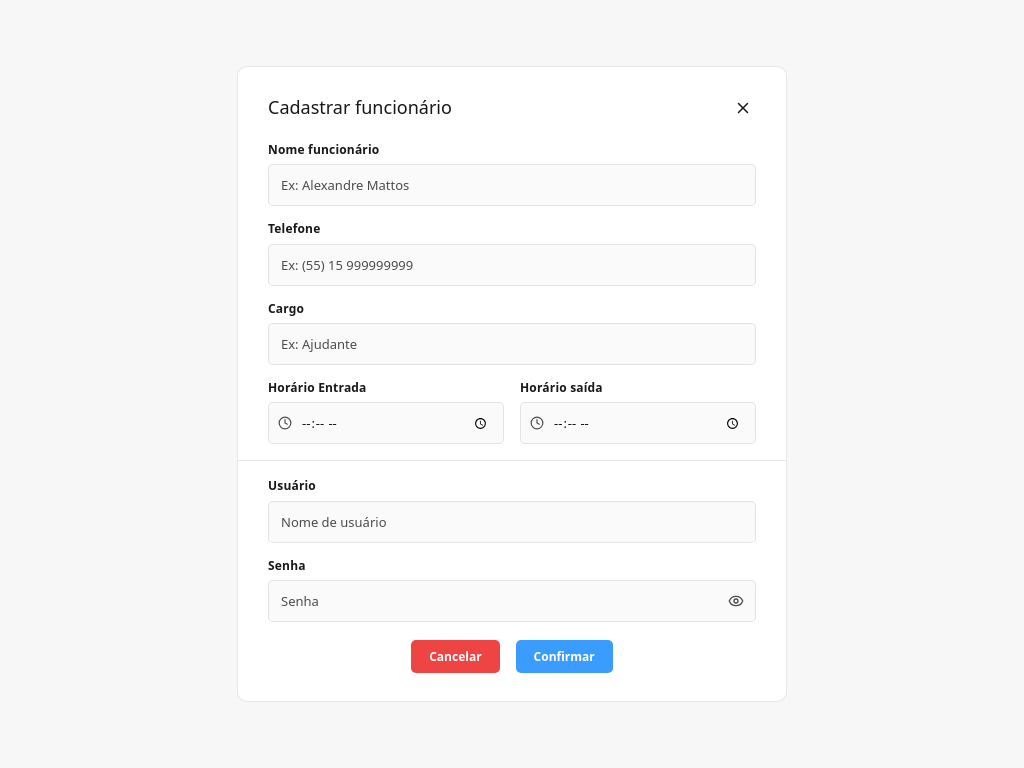
Test: EmployeeFormModal (create) › blocks the save when the usuario belongs to another employee, ignoring case
Type "Maria Lima" into the field labelled "Nome funcionário" at (512, 185), box [268,164,756,206]
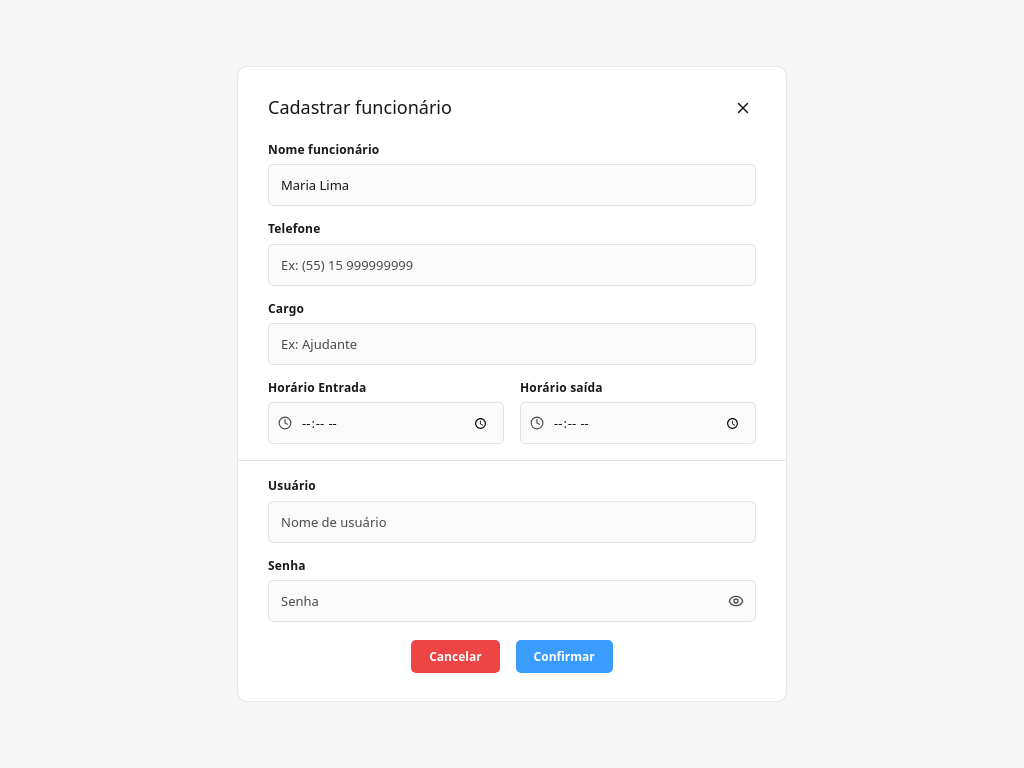
Type "Operadora" into the field labelled "Cargo" at (512, 344), box [268,323,756,365]
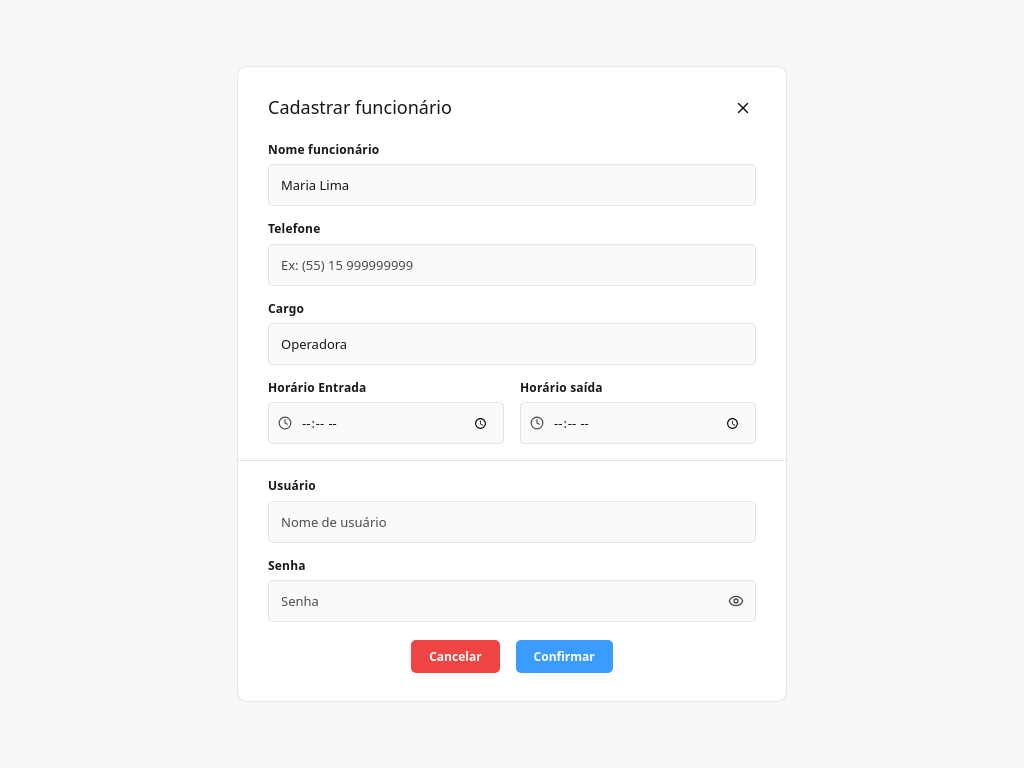
Type "maria" into the field labelled "Usuário" at (512, 522), box [268,501,756,543]
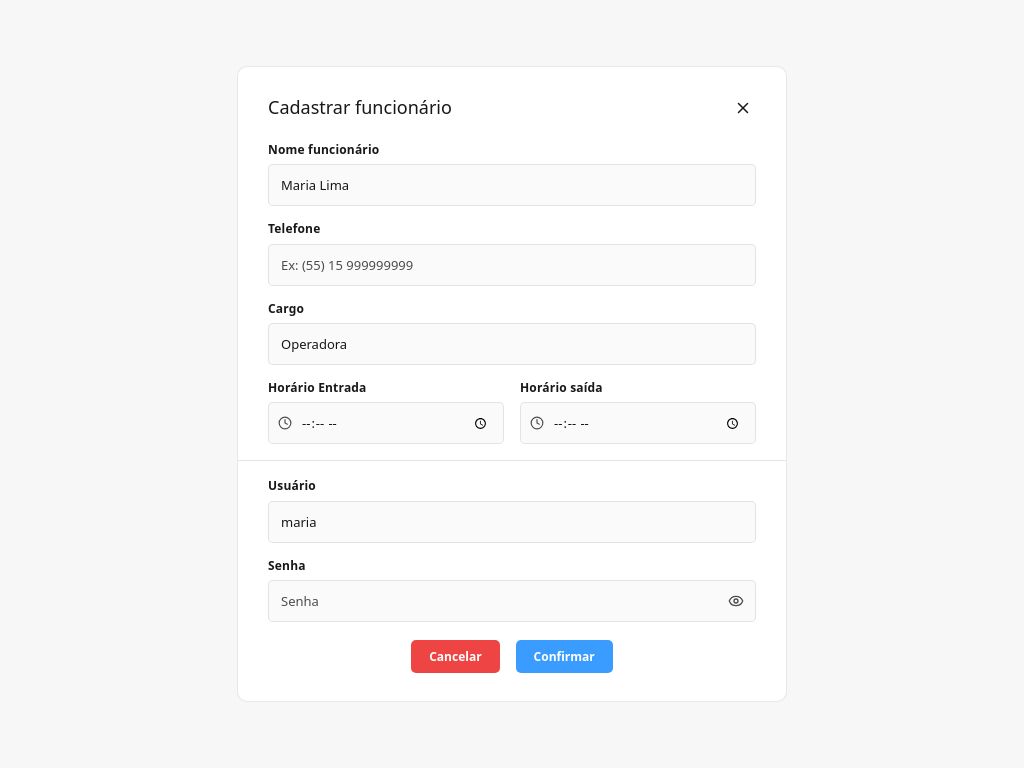
Type "Maria123" into the password field labelled "Senha" at (512, 601), box [268,580,756,622]
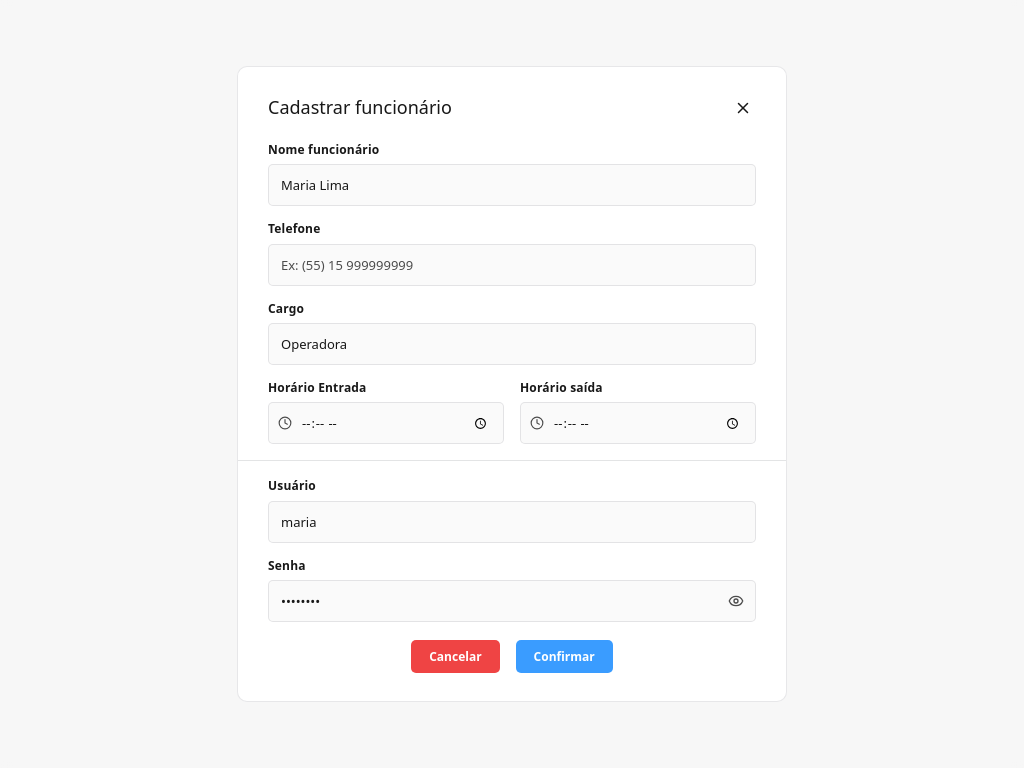
Replace the text in the field labelled "Usuário" with "ALEXANDREMATTOS" at (512, 522), box [268,501,756,543]
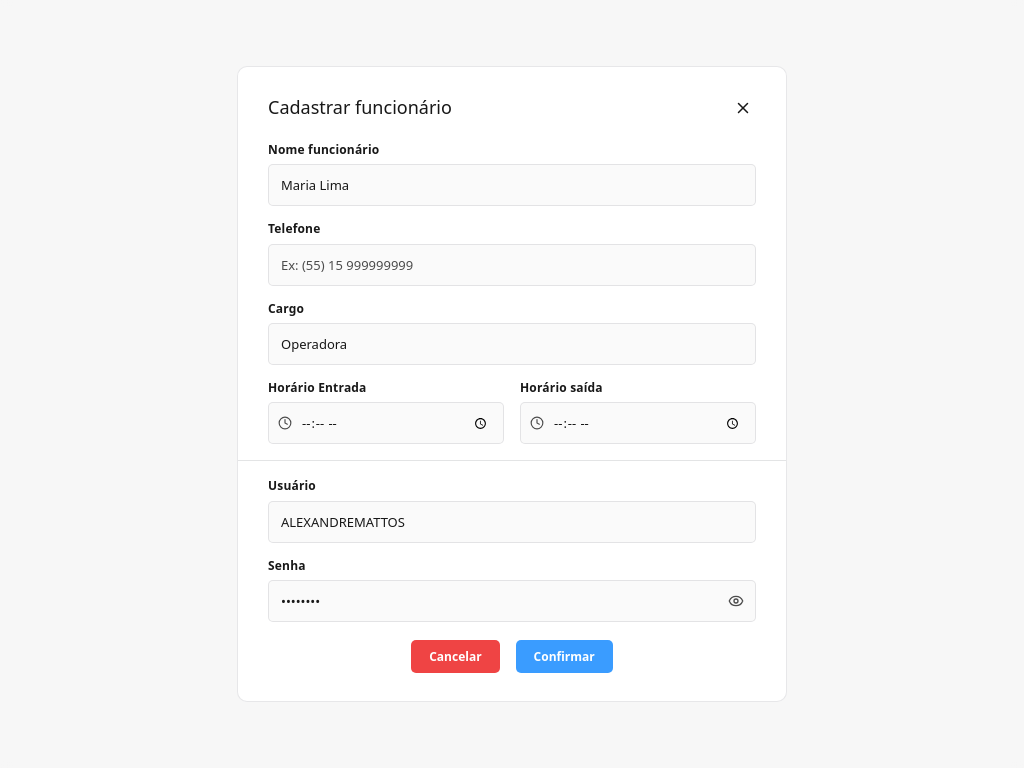
Click the button "Confirmar" at (564, 657), box [516,640,613,673]
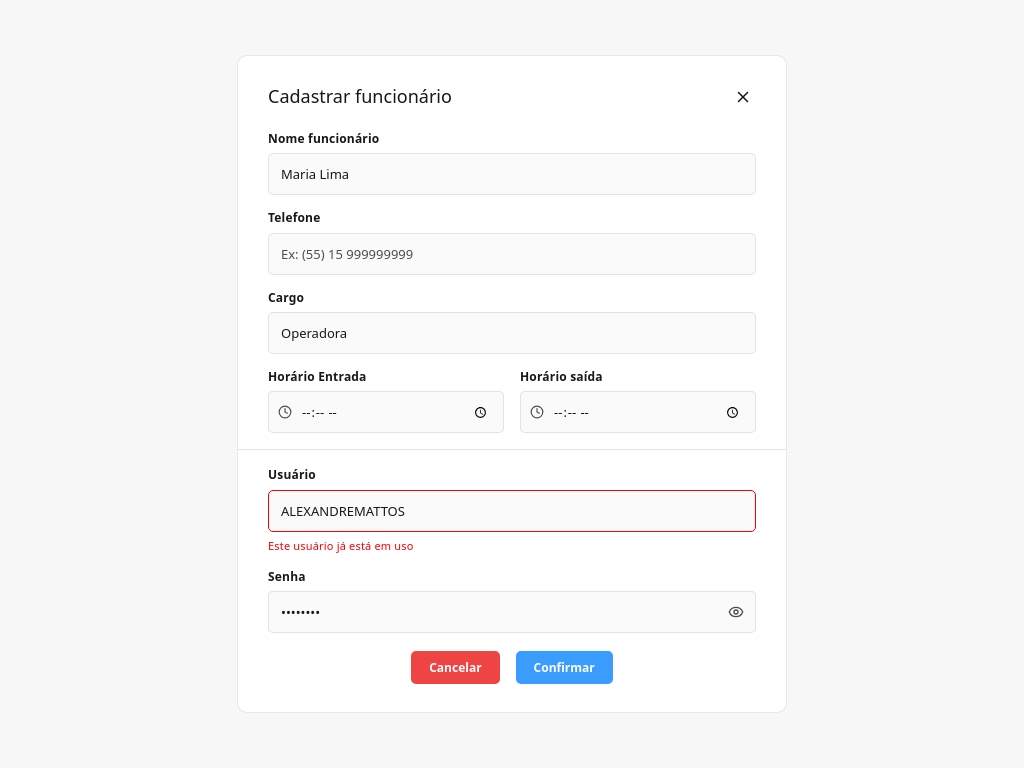
Check: the text "Este usuário já está em uso" is shown, box [268,538,414,553]
